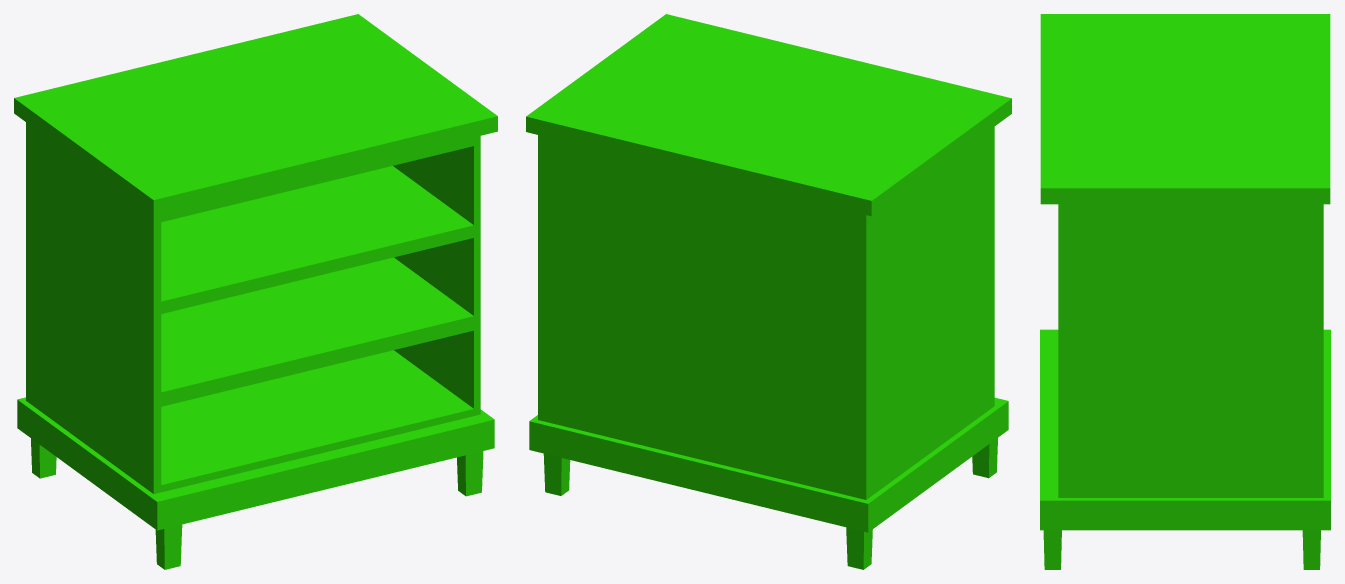
File: Cupboard_04_Lod0.fbx
The picture shows the model from 3 angles, left to right: view 1: azimuth 30°, elevation 25°; view 2: azimuth 150°, elevation 25°; view 3: azimuth 270°, elevation 25°; orthographic projection. The views are drawn at different scales.
Visible parts, largest first — view 1: Cupboard_04_Lod0; view 2: Cupboard_04_Lod0; view 3: Cupboard_04_Lod0.
Part boxes in pixels (x1,y1,x2,y2): Cupboard_04_Lod0: (14,14,497,569); Cupboard_04_Lod0: (526,14,1011,569); Cupboard_04_Lod0: (1040,14,1330,569).
Bounding box in the file's own units: 80.08 × 83.18 × 56.39.
